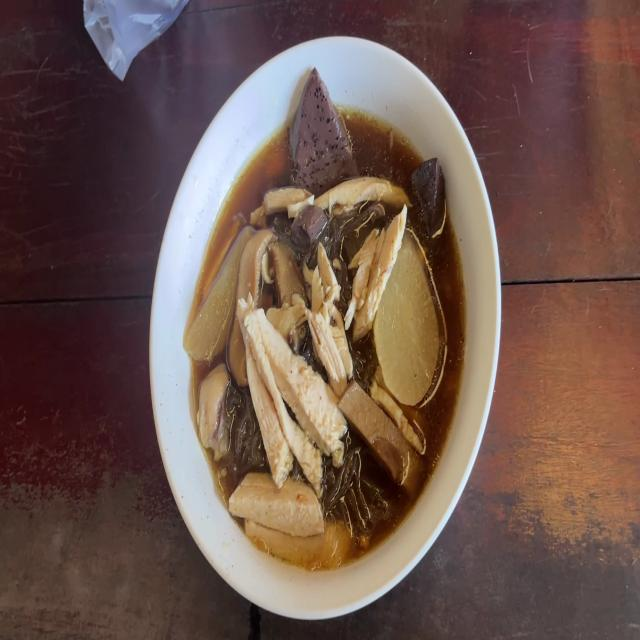boiled_chicken_blood_jelly: (285, 71, 364, 183), (418, 152, 444, 227), (295, 207, 327, 242)
chicken_shredded: (227, 295, 349, 478), (229, 472, 327, 532), (352, 221, 408, 324), (187, 364, 233, 468), (313, 255, 347, 382), (321, 182, 408, 212), (262, 187, 312, 210)
daikon_radish: (372, 244, 443, 399), (184, 227, 246, 358)
noodle: (191, 118, 465, 570)
